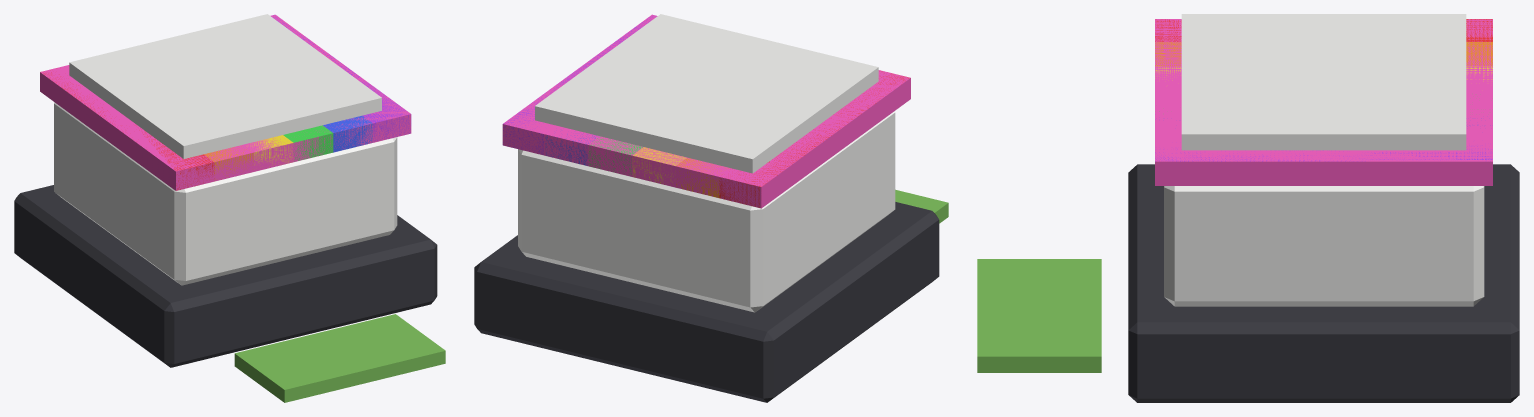
Rendered from RainbowPedestal.fbx.
3 views of the same model, side by side, from view 1: azimuth 30°, elevation 25°; view 2: azimuth 150°, elevation 25°; view 3: azimuth 270°, elevation 25° (orthographic). The views are drawn at different scales.
Parts seen in each view (by area): view 1: RainbowPedestal; view 2: RainbowPedestal; view 3: RainbowPedestal.
Boxes of the visible parts, x1,y1,x2,y2 form: RainbowPedestal: [14, 14, 445, 402]; RainbowPedestal: [474, 14, 948, 402]; RainbowPedestal: [977, 14, 1519, 402].
Bounding box in the file's own units: 4.4 × 3.1 × 6.1.
1 material, 1 textured.
